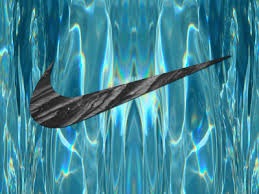nike: (29, 54, 231, 130)
